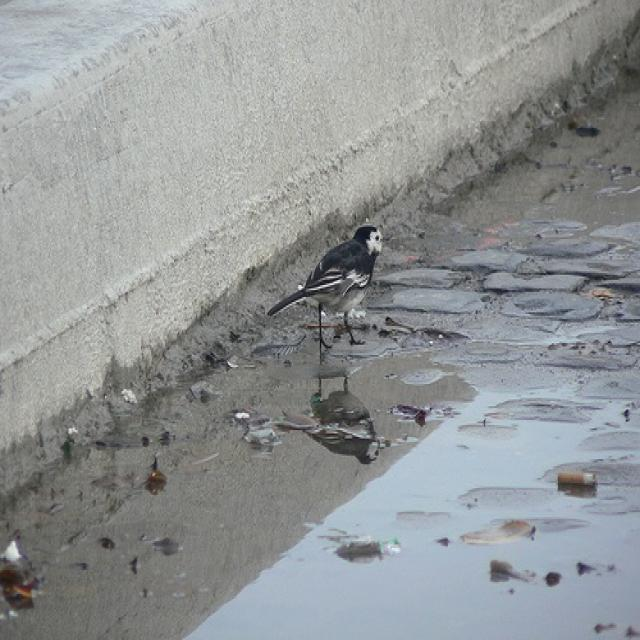bird: (268, 224, 384, 348)
